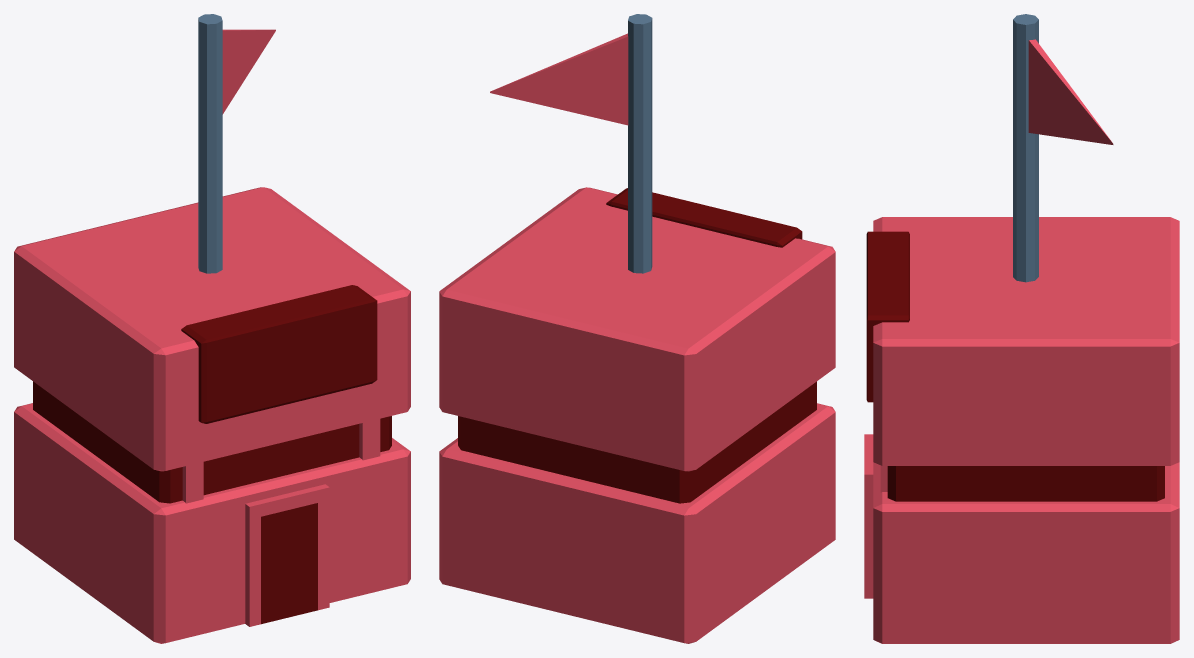
Rendered from tower.glb.
3 views of the same model, side by side, from view 1: azimuth 30°, elevation 25°; view 2: azimuth 150°, elevation 25°; view 3: azimuth 270°, elevation 25° (orthographic). The views are drawn at different scales.
Visible parts, largest first — view 1: Cube001, Cube, Cube003, Cube002, Cylinder, Cube005_2, Cube005_1, flag, Cube006, Cube005; view 2: Cube001, Cube, Cube002, flag, Cylinder, Cube003; view 3: Cube001, Cube, Cube002, Cylinder, Cube003, flag, Cube005_1.
Boxes of the visible parts, x1,y1,x2,y2 form: Cube001: [14, 187, 410, 471]; Cube: [14, 403, 410, 643]; Cube003: [181, 285, 377, 423]; Cube002: [33, 381, 391, 503]; Cylinder: [198, 14, 222, 273]; Cube005_2: [261, 503, 317, 624]; Cube005_1: [245, 484, 329, 626]; flag: [222, 29, 275, 114]; Cube006: [359, 419, 380, 460]; Cube005: [182, 462, 203, 503]; Cube001: [439, 187, 835, 471]; Cube: [439, 403, 835, 643]; Cube002: [458, 381, 816, 503]; flag: [490, 33, 628, 125]; Cylinder: [628, 14, 652, 273]; Cube003: [606, 188, 802, 247]; Cube001: [873, 217, 1179, 465]; Cube: [873, 462, 1179, 643]; Cube002: [887, 466, 1164, 501]; Cylinder: [1013, 14, 1038, 282]; Cube003: [866, 231, 909, 402]; flag: [1028, 39, 1113, 144]; Cube005_1: [864, 434, 873, 598].
Size of the model in its own units: 1.26 by 2.56 by 1.3.
